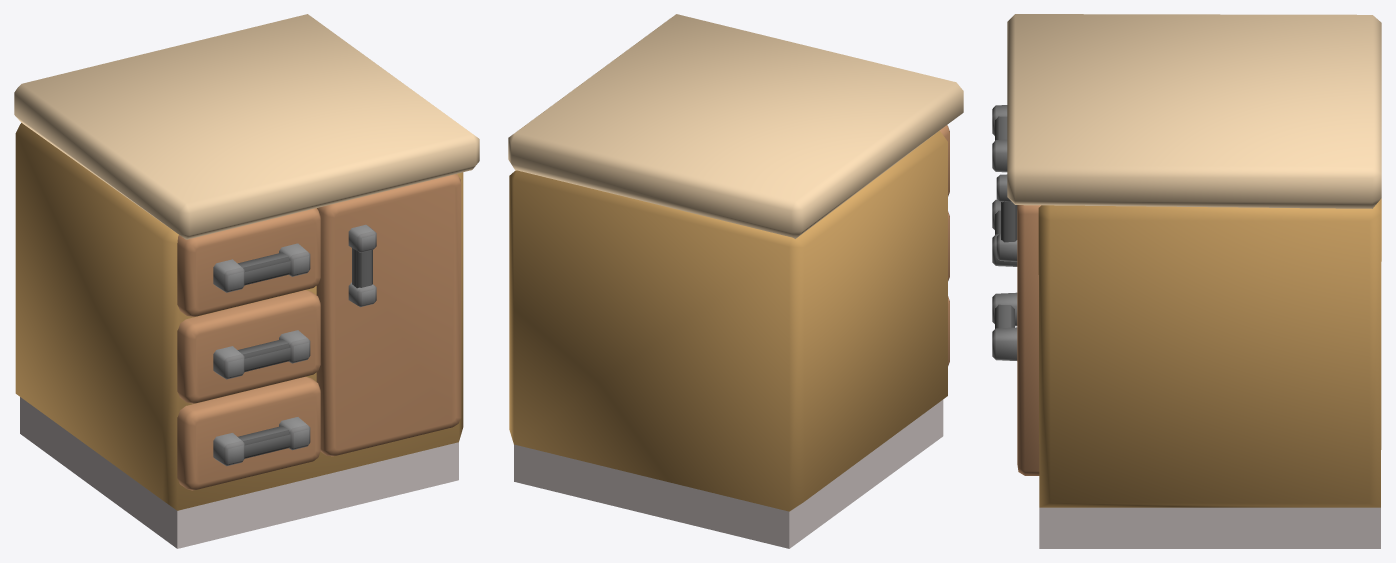
The model's file is Furnit_B_4_B.glb.
The picture shows the model from 3 angles, left to right: view 1: azimuth 30°, elevation 25°; view 2: azimuth 150°, elevation 25°; view 3: azimuth 270°, elevation 25°; orthographic projection. The views are drawn at different scales.
Parts seen in each view (by area): view 1: Furnit_B_4_B; view 2: Furnit_B_4_B; view 3: Furnit_B_4_B.
Part boxes in pixels (x1,y1,x2,y2): Furnit_B_4_B: [14, 14, 479, 548]; Furnit_B_4_B: [508, 14, 963, 548]; Furnit_B_4_B: [992, 14, 1381, 548].
Bounding box in the file's own units: 0.9098 × 1.02 × 0.9381.
Materials: 1 (1 with a texture image).
